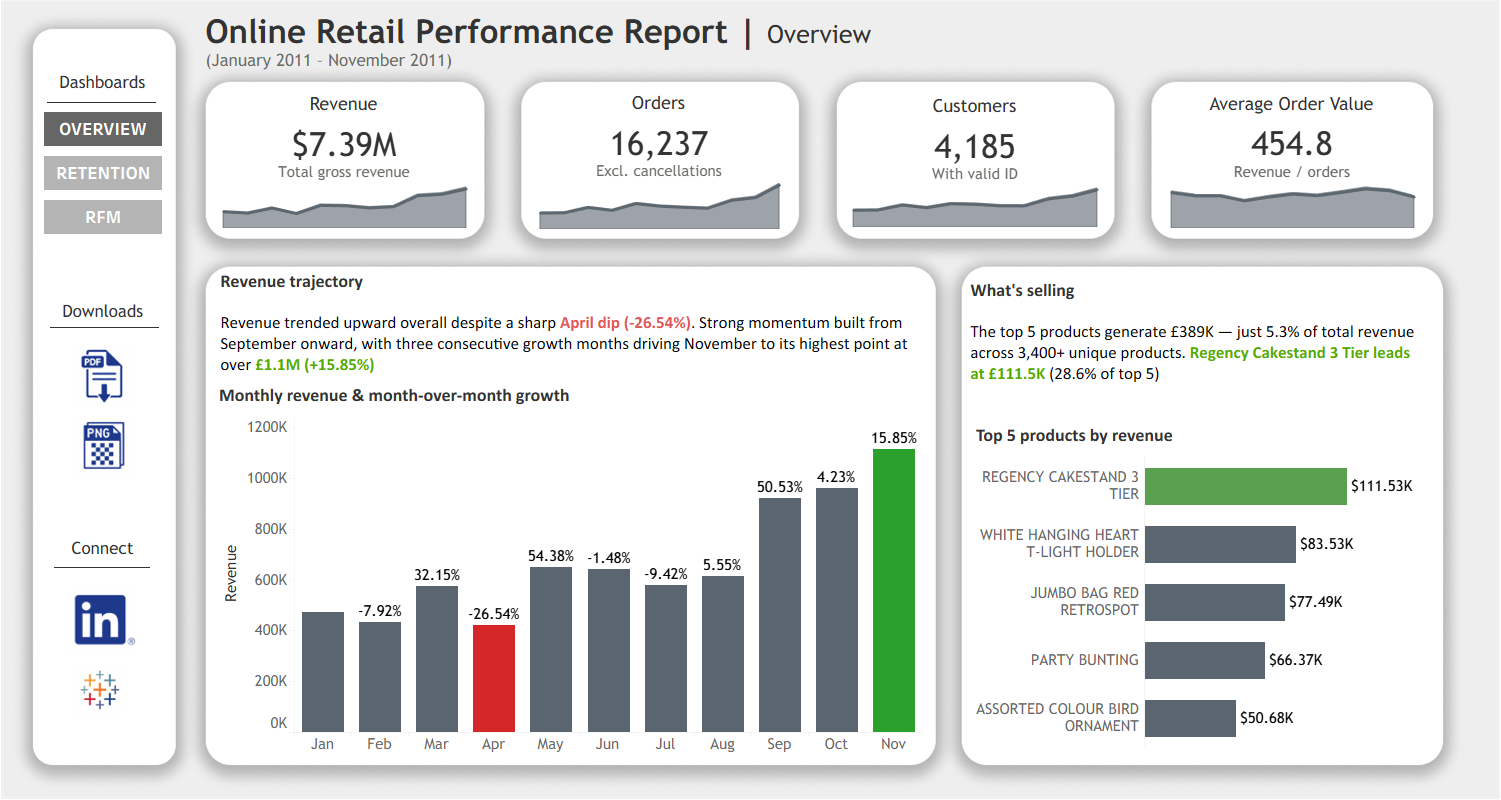

The dashboard page shown, as its layout file describes it:
{"tool":"tableau","page":{"name":"Overview","canvas":[1000,1000],"units":"permille","ordinal":0},"visuals":[{"type":"image","param":"Image/Overview Layout.png","box":[0,0,1000,1000]},{"type":"text","box":[134,11.2,602,83.8]},{"type":"text","box":[36.7,85,68.7,37.5]},{"type":"worksheet","title":"Revenue","mark":"Automatic","box":[140.7,112.5,175.3,171.2]},{"type":"worksheet","title":"Orders","mark":"Automatic","box":[350.7,112.5,175.3,171.2]},{"type":"worksheet","title":"AOV","mark":"Automatic","box":[772,112.5,176.7,167.5]},{"type":"worksheet","title":"Customers","mark":"Automatic","box":[562,115,174,156.2]},{"type":"blank","box":[30.7,128.8,72.7,1.2]},{"type":"dashboard-object","box":[30.7,151.2,66.7,65]},{"type":"dashboard-object","box":[34.7,240,64.7,65]},{"type":"text","box":[143.3,342.5,466.7,161.2]},{"type":"text","box":[647.3,346.2,308,173.8]},{"type":"text","box":[38.7,361.2,66.7,37.5]},{"type":"blank","box":[32.7,400,72.7,1.2]},{"type":"dashboard-object","box":[35.3,423.8,66.7,76.2]},{"type":"worksheet","title":"Monthly revenue & month-over-month growth","mark":"Bar","rows":["Calculation_0900549600825360"],"cols":["invoice_date"],"box":[144,488.8,458.7,446.2]},{"type":"dashboard-object","box":[39.3,512.5,60.7,75]},{"type":"worksheet","title":"Top 5 Products by revenue","mark":"Automatic","rows":["description"],"cols":["Calculation_0900549600825360"],"box":[649.3,535,298,388.8]},{"type":"text","box":[44.7,657.5,66.7,37.5]},{"type":"blank","box":[35.3,700,64,1.2]},{"type":"image","param":"Image/Screenshot 2026-03-17 221749.png","box":[44.7,727.5,46,81.2]},{"type":"image","param":"Image/Screenshot 2026-03-17 221802.png","box":[44.7,822.5,42.7,60]}]}

Visuals, with their boxes on the dashboard's canvas, which has no fixed pixel size, in thousandths of its width and height (x1, y1, x2, y2). These are canvas units, not pixel positions in the 1501x800 screenshot, which may show the page scaled, cropped or inside an application window:
image: 0:0:1000:1000
text: 134:11:736:95
text: 37:85:105:122
"Revenue" worksheet: 141:112:316:284
"Orders" worksheet: 351:112:526:284
"AOV" worksheet: 772:112:949:280
"Customers" worksheet: 562:115:736:271
blank: 31:129:103:130
dashboard-object: 31:151:97:216
dashboard-object: 35:240:99:305
text: 143:342:610:504
text: 647:346:955:520
text: 39:361:105:399
blank: 33:400:105:401
dashboard-object: 35:424:102:500
"Monthly revenue & month-over-month growth" worksheet (Bar marks): 144:489:603:935
dashboard-object: 39:512:100:588
"Top 5 Products by revenue" worksheet: 649:535:947:924
text: 45:658:111:695
blank: 35:700:99:701
image: 45:728:91:809
image: 45:822:87:882
